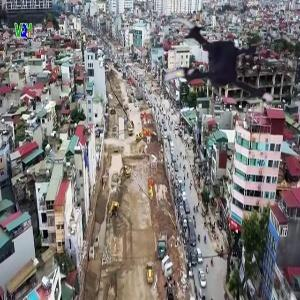drone: (144, 2, 281, 139)
